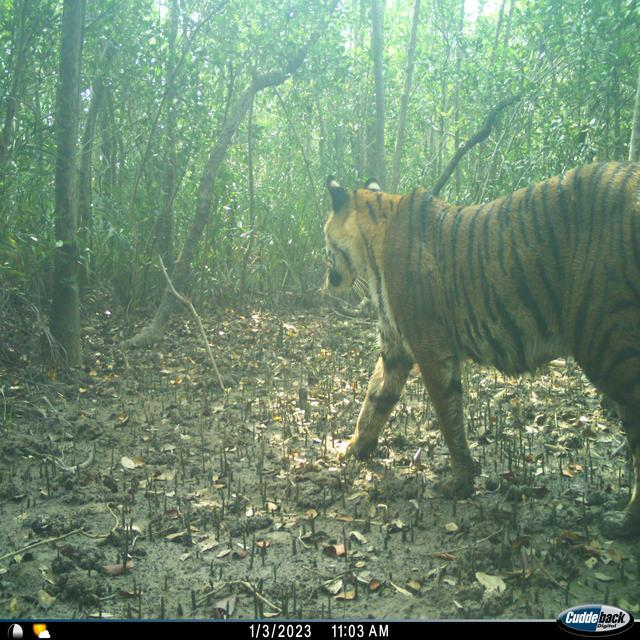tiger: (322, 158, 639, 519)
